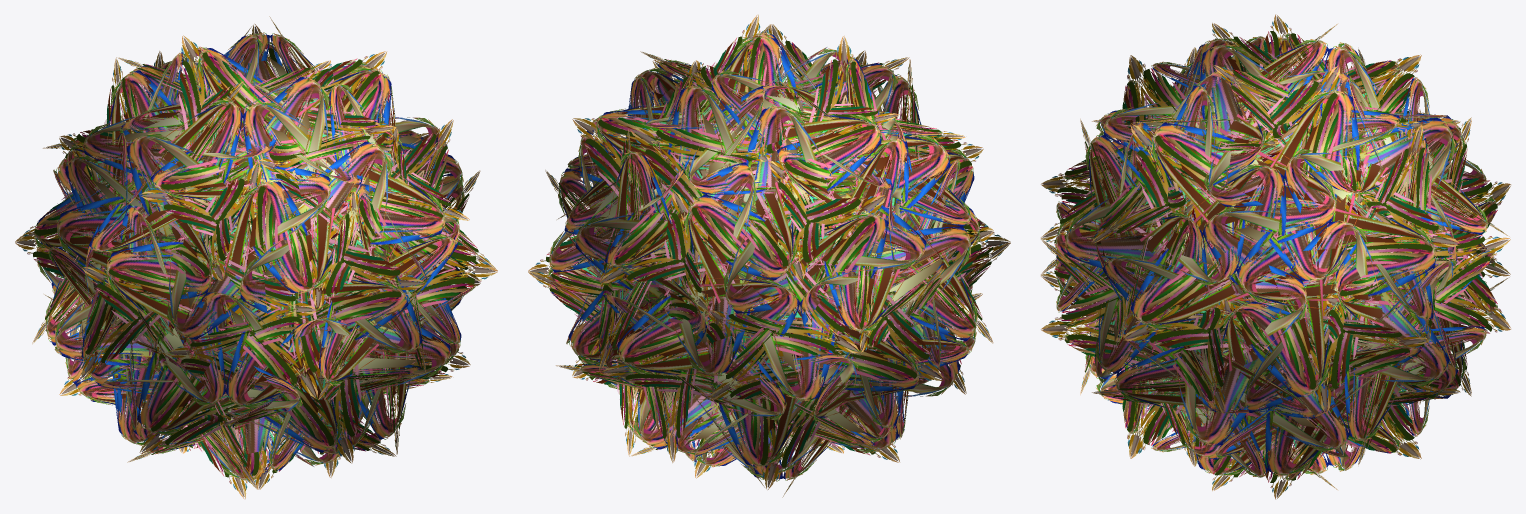
The model's file is GreatSnubDodecicosidodecahedron9.gltf.
3 views of the same model, side by side, from view 1: azimuth 30°, elevation 25°; view 2: azimuth 150°, elevation 25°; view 3: azimuth 270°, elevation 25° (orthographic). The views are drawn at different scales.
Parts seen in each view (by area): view 1: GreatSnubDodecicosidodecahedron9; view 2: GreatSnubDodecicosidodecahedron9; view 3: GreatSnubDodecicosidodecahedron9.
Part boxes in pixels (bbox=[...]): GreatSnubDodecicosidodecahedron9: bbox=[15, 16, 497, 498]; GreatSnubDodecicosidodecahedron9: bbox=[528, 15, 1010, 497]; GreatSnubDodecicosidodecahedron9: bbox=[1041, 14, 1510, 499].
Bounding box in the file's own units: 1.34 × 1.34 × 1.34.
Materials: 1 (1 with a texture image).
